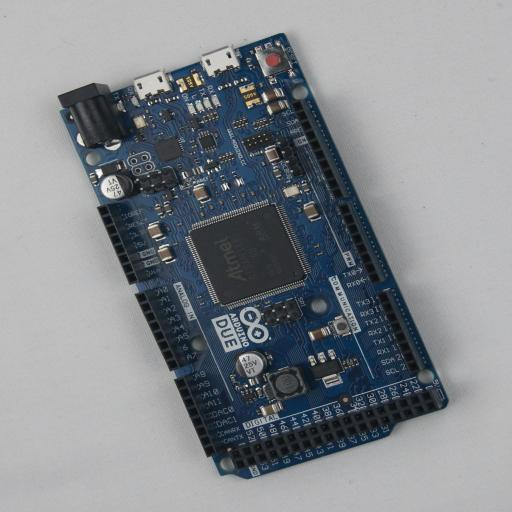Arduino Due: (58, 33, 448, 479)
